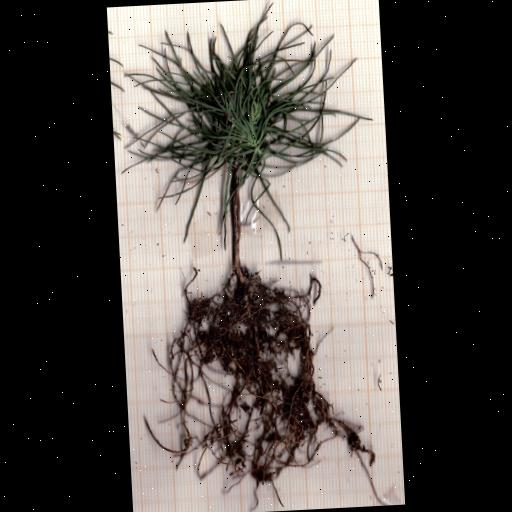flowerCedr: (127, 5, 366, 240)
rootCedr: (143, 270, 384, 505)
stemCedr: (231, 190, 244, 282)
